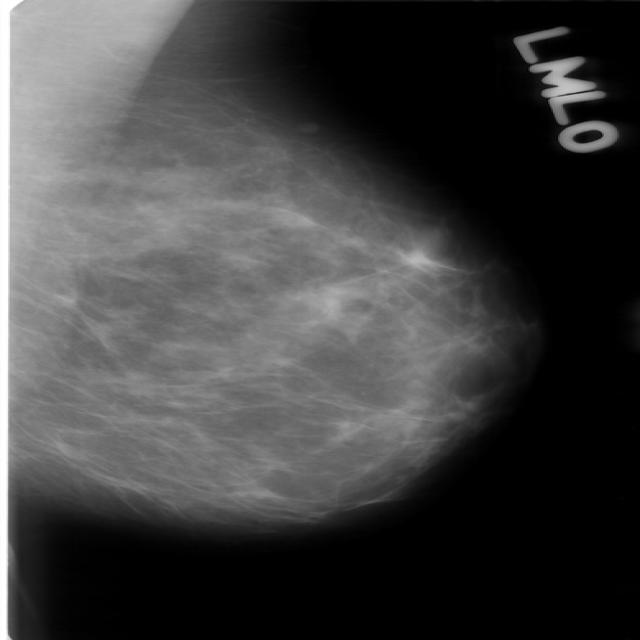tumour: (391, 243, 436, 273)
